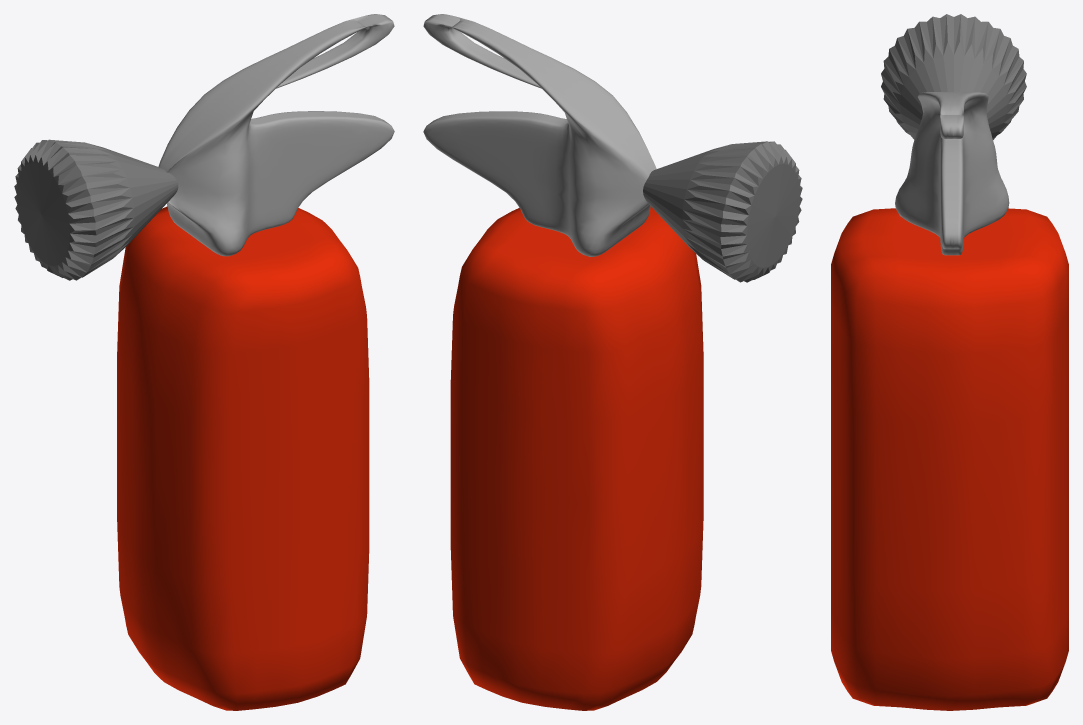
File: FireExtinguisher.fbx
The picture shows the model from 3 angles, left to right: view 1: azimuth 30°, elevation 25°; view 2: azimuth 150°, elevation 25°; view 3: azimuth 270°, elevation 25°; orthographic projection.
Visible parts, largest first — view 1: FireExtinguisher; view 2: FireExtinguisher; view 3: FireExtinguisher.
Part boxes in pixels (x1,y1,x2,y2): FireExtinguisher: (14,14,394,710); FireExtinguisher: (423,14,802,710); FireExtinguisher: (831,14,1068,710).
Bounding box in the file's own units: 688 × 1164 × 401.
